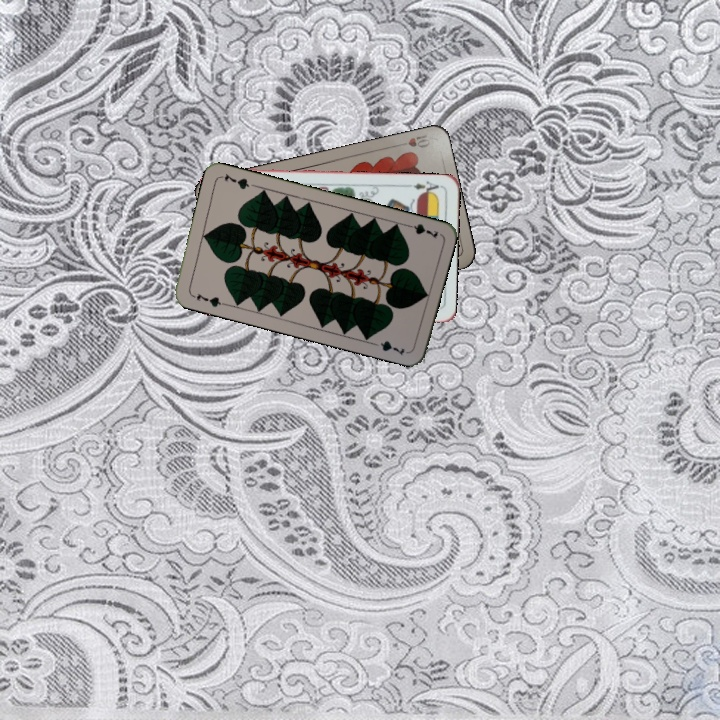EA: (403, 177, 443, 197)
G7: (401, 219, 441, 241), (188, 289, 228, 310)
H10: (393, 130, 433, 151)
